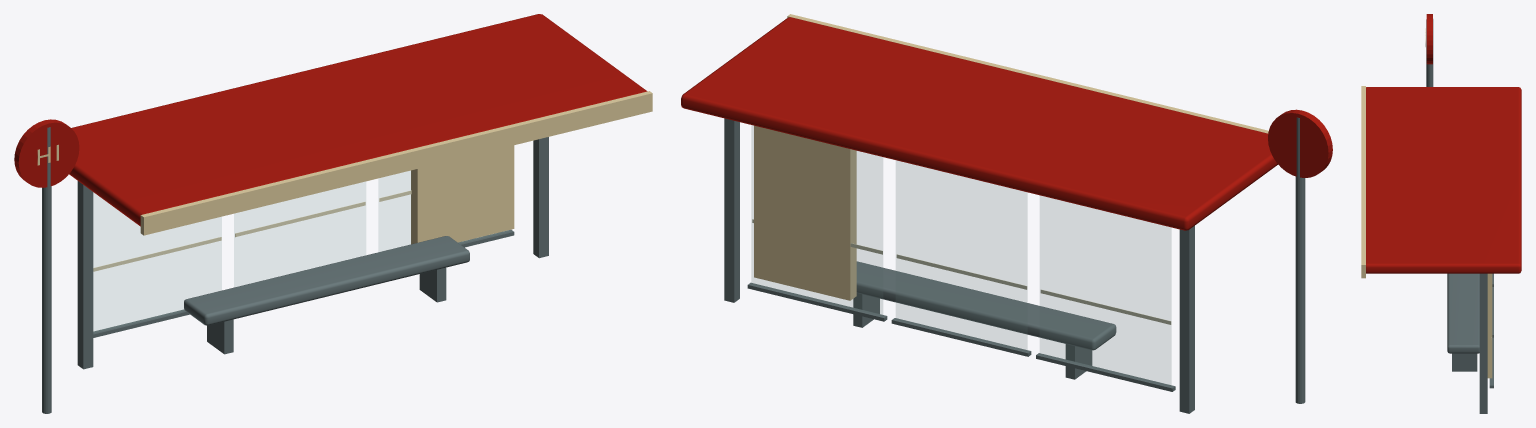
The model's file is shelter.glb.
The picture shows the model from 3 angles, left to right: view 1: azimuth 30°, elevation 25°; view 2: azimuth 150°, elevation 25°; view 3: azimuth 270°, elevation 25°; orthographic projection. The views are drawn at different scales.
Parts seen in each view (by area): view 1: shelter_Body.001; view 2: shelter_Body.001; view 3: shelter_Body.001.
Part boxes in pixels (x1,y1,x2,y2): shelter_Body.001: [14, 14, 652, 413]; shelter_Body.001: [681, 14, 1332, 413]; shelter_Body.001: [1361, 14, 1521, 413].
Size of the model in its own units: 7.75 by 3.66 by 2.53.
